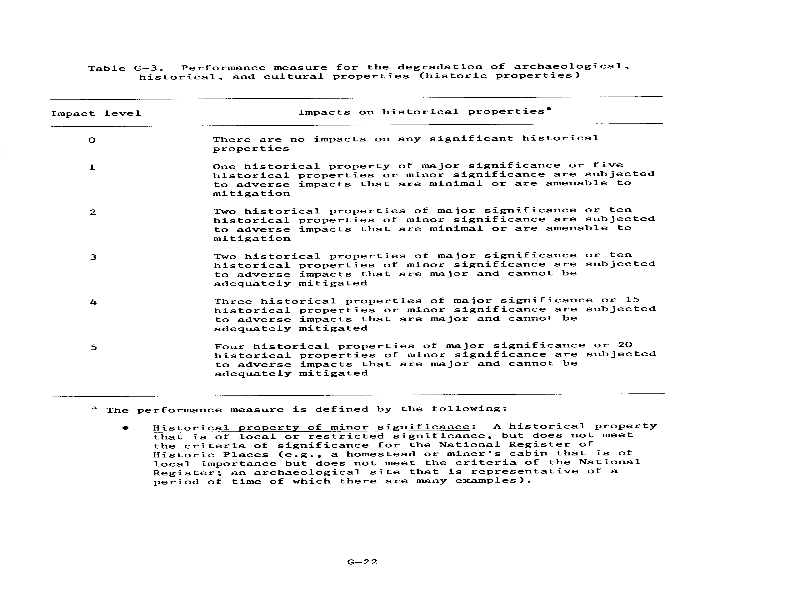table: (52, 99, 672, 393)
